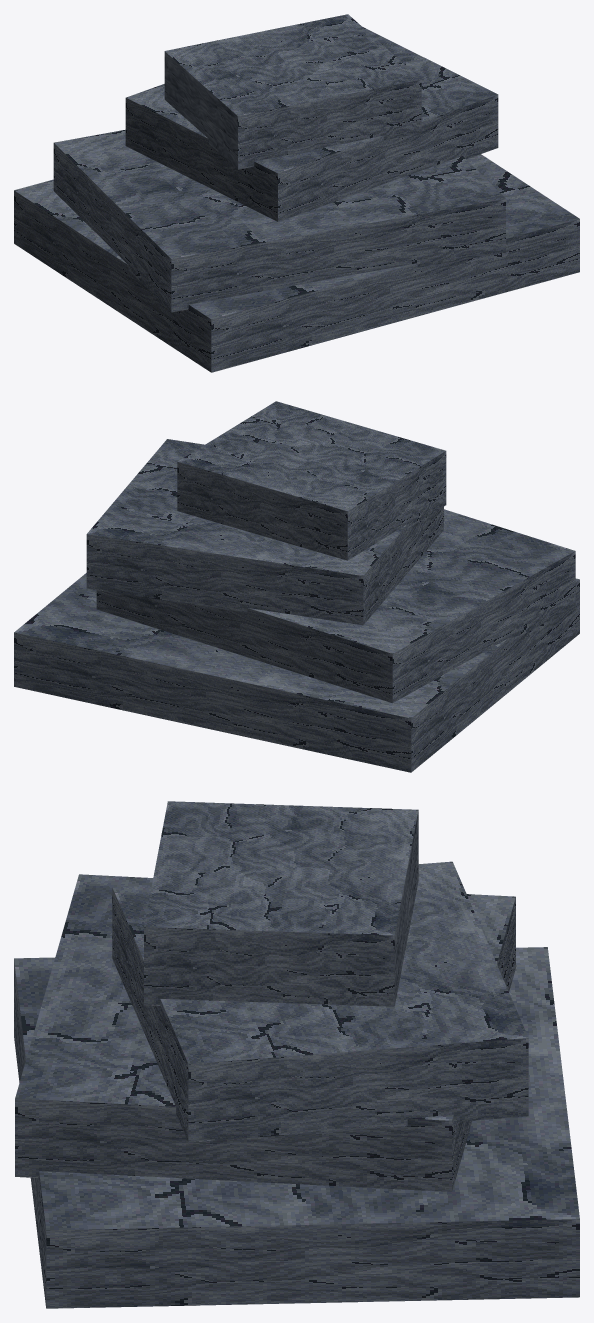
File: ardosia.glb
3 renders of one model, top to bottom at view 1: azimuth 30°, elevation 25°; view 2: azimuth 150°, elevation 25°; view 3: azimuth 270°, elevation 25°, orthographic. The views are drawn at different scales.
Visible parts, largest first — view 1: ardosia; view 2: ardosia; view 3: ardosia.
Boxes of the visible parts, <box> form: ardosia: <box>14,14,579,372</box>; ardosia: <box>14,401,579,772</box>; ardosia: <box>14,801,579,1308</box>.
Size of the model in its own units: 0.8147 by 0.3895 by 0.6841.
1 material, 1 textured.
